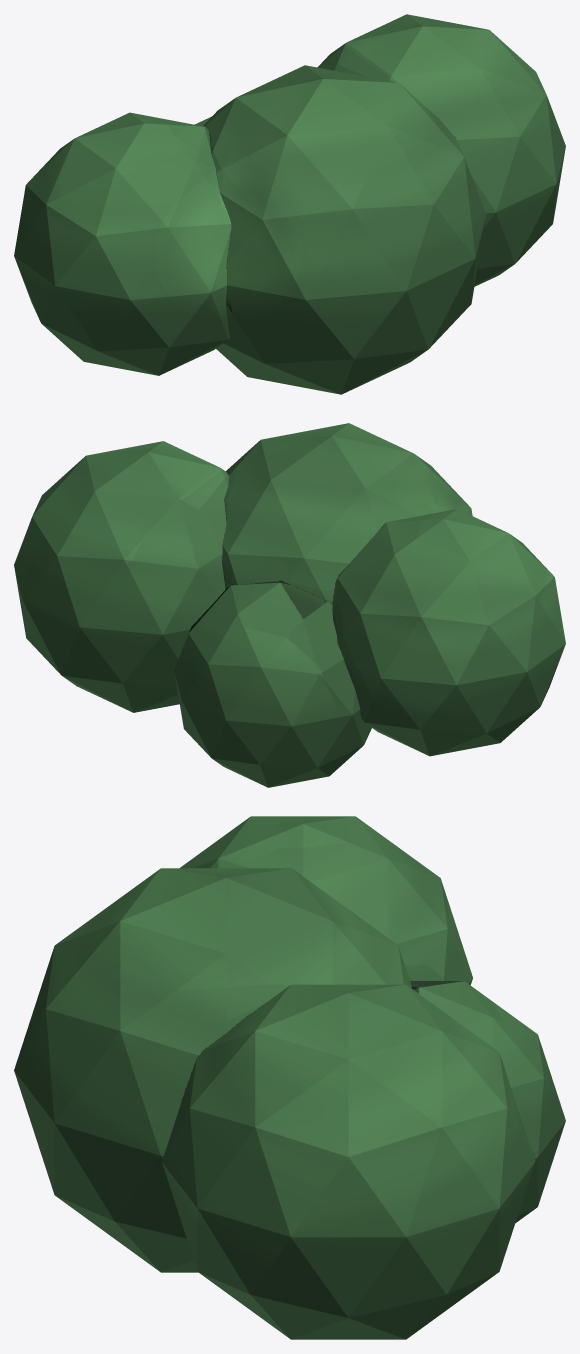
File: bushes.fbx
3 views of the same model, one above another, from view 1: azimuth 30°, elevation 25°; view 2: azimuth 150°, elevation 25°; view 3: azimuth 270°, elevation 25° (orthographic). The views are drawn at different scales.
Parts seen in each view (by area): view 1: Icosphere.001; view 2: Icosphere.001; view 3: Icosphere.001.
Part boxes in pixels (bbox=[...]): Icosphere.001: bbox=[14, 14, 565, 394]; Icosphere.001: bbox=[14, 423, 565, 787]; Icosphere.001: bbox=[14, 816, 565, 1339].
Bounding box in the file's own units: 1.33 × 0.738 × 0.9497.
1 material, 1 textured.
